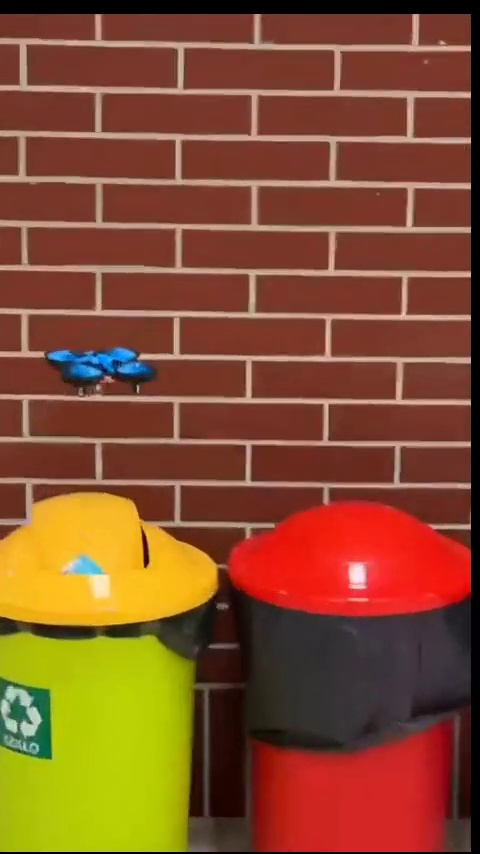drone: (45, 344, 156, 395)
